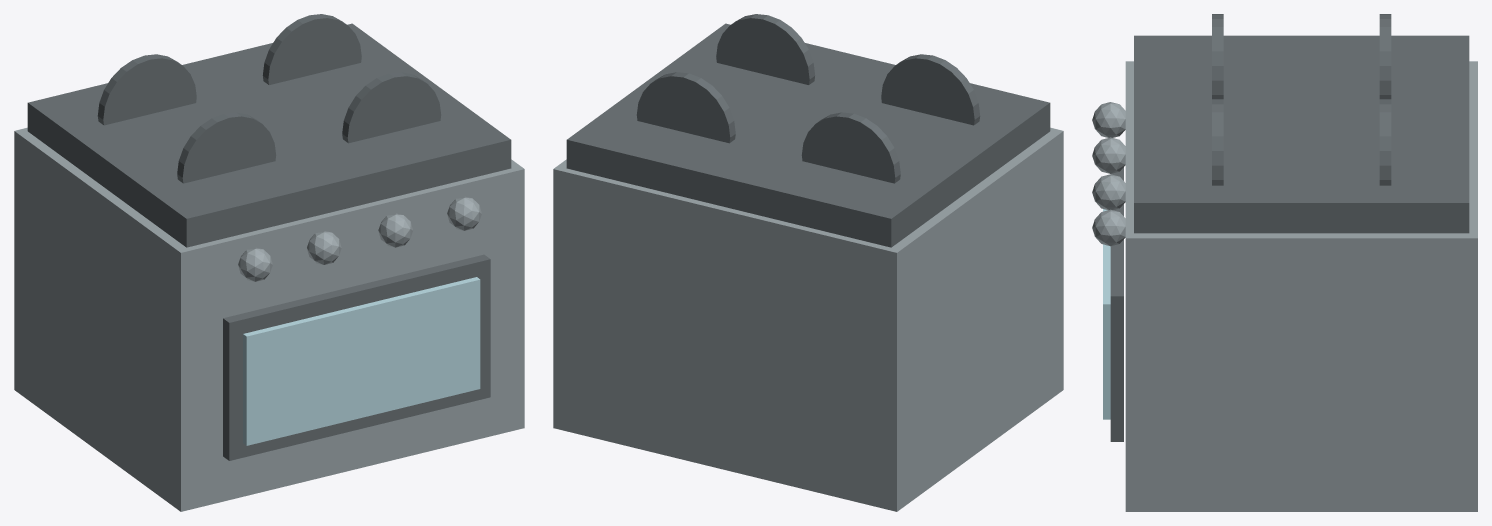
Rendered from kitchen_stove.glb.
The picture shows the model from 3 angles, left to right: view 1: azimuth 30°, elevation 25°; view 2: azimuth 150°, elevation 25°; view 3: azimuth 270°, elevation 25°; orthographic projection. The views are drawn at different scales.
Parts seen in each view (by area): view 1: part_00, part_01, part_03, part_02, part_04, part_05, part_06, part_07, part_10, part_08, part_11, part_09; view 2: part_00, part_01, part_05, part_04, part_06, part_07; view 3: part_00, part_01, part_02, part_03, part_06, part_04, part_07, part_05, part_09, part_10, part_08, part_11.
Boxes of the visible parts, box(x1,y1,x2,y2) form: part_00: box(14, 127, 524, 511); part_01: box(27, 23, 511, 247); part_03: box(243, 277, 480, 445); part_02: box(223, 254, 490, 460); part_04: box(97, 54, 196, 125); part_05: box(177, 112, 276, 183); part_06: box(262, 14, 361, 84); part_07: box(342, 72, 441, 143); part_10: box(378, 213, 412, 247); part_08: box(238, 247, 272, 281); part_11: box(447, 196, 481, 230); part_09: box(307, 231, 341, 264); part_00: box(553, 127, 1063, 511); part_01: box(566, 23, 1050, 247); part_05: box(881, 54, 980, 125); part_04: box(801, 112, 900, 183); part_06: box(636, 72, 735, 143); part_07: box(716, 14, 815, 84); part_00: box(1125, 61, 1477, 511); part_01: box(1134, 35, 1469, 233); part_02: box(1110, 167, 1123, 441); part_03: box(1103, 209, 1110, 419); part_06: box(1379, 99, 1391, 185); part_04: box(1379, 14, 1391, 98); part_07: box(1212, 99, 1223, 185); part_05: box(1212, 14, 1223, 98); part_09: box(1092, 137, 1125, 173); part_10: box(1092, 174, 1125, 210); part_08: box(1092, 102, 1125, 137); part_11: box(1092, 209, 1125, 246).
Size of the model in its own units: 1.25 by 1.19 by 1.15.
